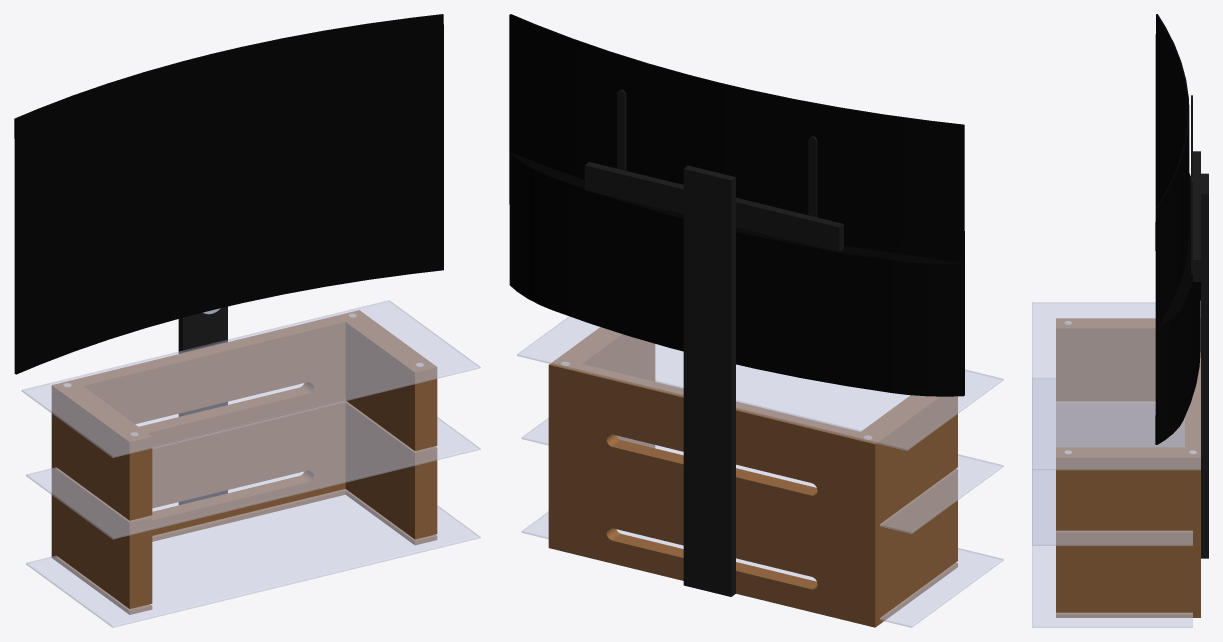
3 views of the same model, side by side, from view 1: azimuth 30°, elevation 25°; view 2: azimuth 150°, elevation 25°; view 3: azimuth 270°, elevation 25° (orthographic). The views are drawn at different scales.
Parts seen in each view (by area): view 1: currentmodel.wrl.cleaner.materialmerger.gles; view 2: currentmodel.wrl.cleaner.materialmerger.gles; view 3: currentmodel.wrl.cleaner.materialmerger.gles.
Boxes of the visible parts, box(x1,y1,x2,y2) form: currentmodel.wrl.cleaner.materialmerger.gles: box(14, 14, 480, 627); currentmodel.wrl.cleaner.materialmerger.gles: box(509, 14, 1003, 627); currentmodel.wrl.cleaner.materialmerger.gles: box(1032, 14, 1208, 627).
Bounding box in the file's own units: 1451 × 1524 × 559.
16 materials, 3 textured.
